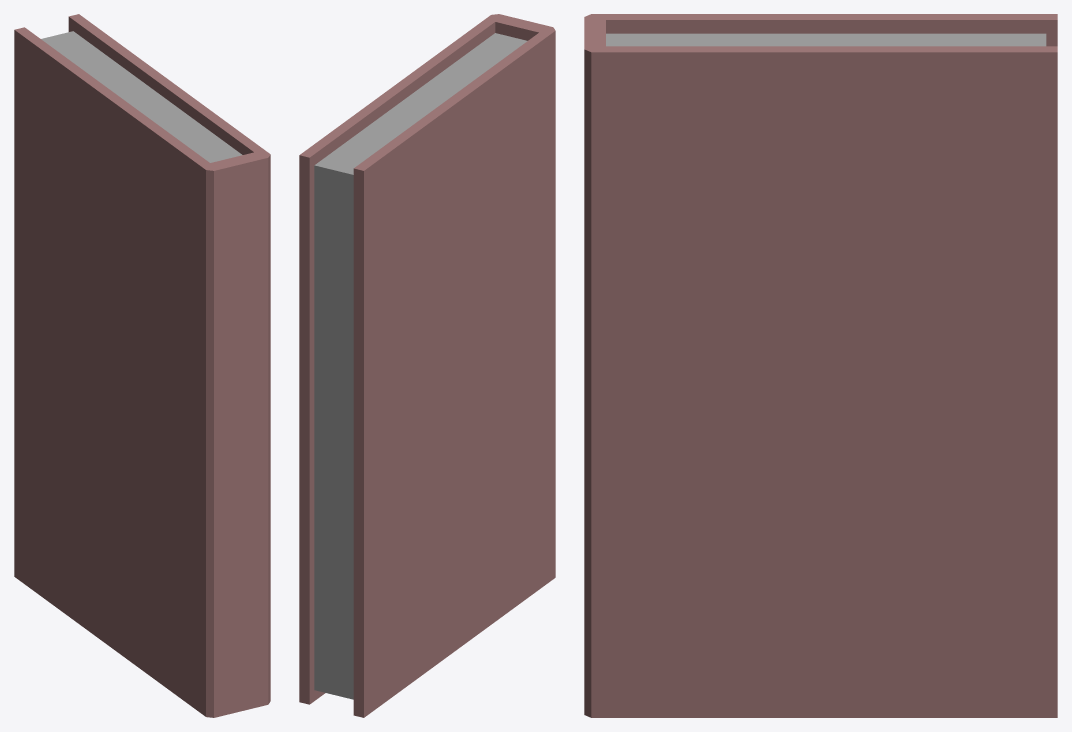
File: book1.fbx
3 renders of one model, left to right at view 1: azimuth 30°, elevation 25°; view 2: azimuth 150°, elevation 25°; view 3: azimuth 270°, elevation 25°, orthographic. The views are drawn at different scales.
Parts seen in each view (by area): view 1: polySurface1, polySurface2; view 2: polySurface1, polySurface2; view 3: polySurface1, polySurface2.
Boxes of the visible parts, left/top/right/bottom form: polySurface1: left=14, top=14, right=270, bottom=717; polySurface2: left=41, top=31, right=242, bottom=162; polySurface1: left=299, top=14, right=555, bottom=717; polySurface2: left=314, top=33, right=527, bottom=699; polySurface1: left=584, top=14, right=1057, bottom=717; polySurface2: left=606, top=33, right=1046, bottom=46.
Bounding box in the file's own units: 1.82 × 14.74 × 9.5.
